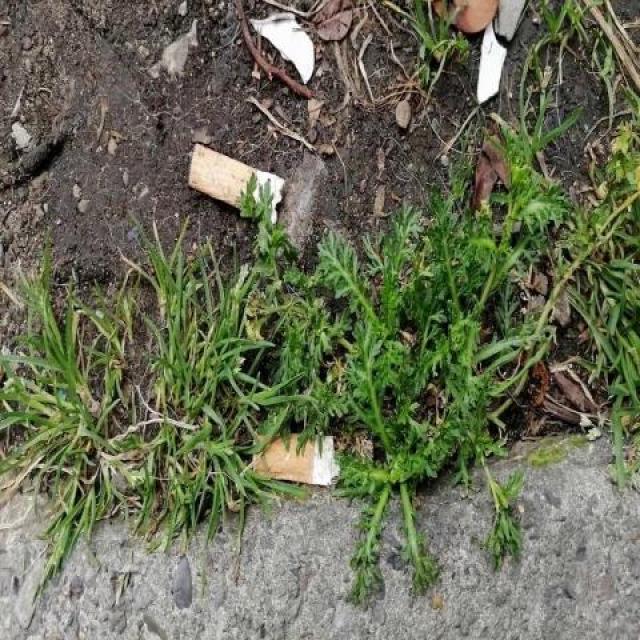non-organic waste: (186, 140, 287, 232), (247, 427, 345, 490)
